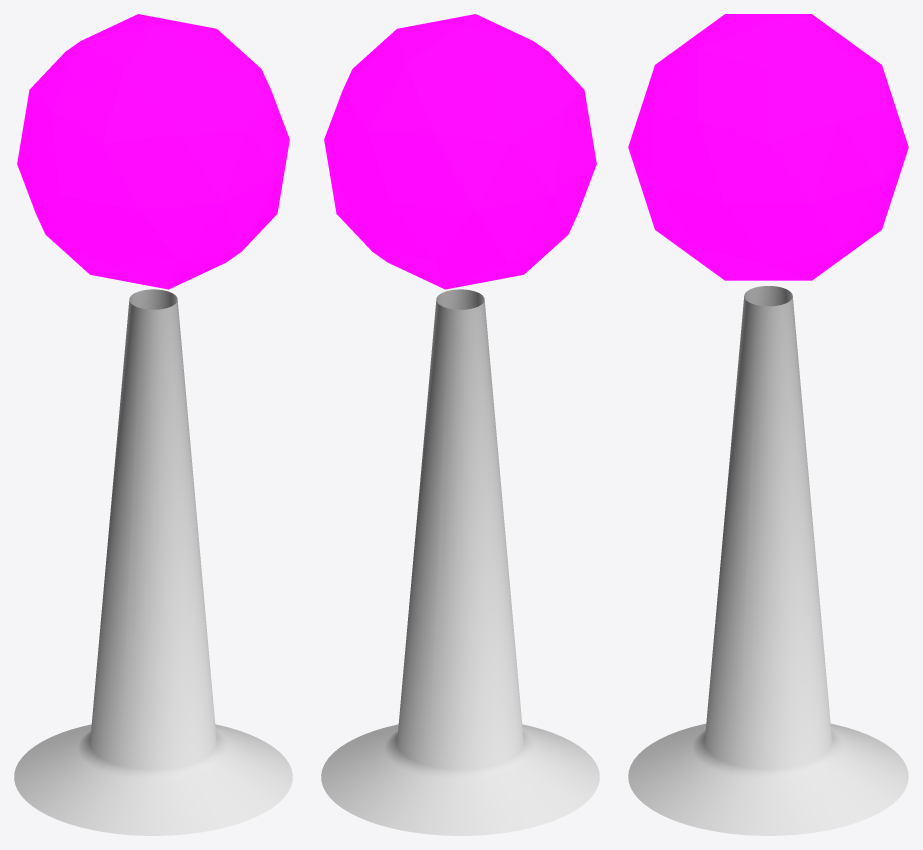
Rendered from AlienStructureDevice.dae.
3 views of the same model, side by side, from view 1: azimuth 30°, elevation 25°; view 2: azimuth 150°, elevation 25°; view 3: azimuth 270°, elevation 25° (orthographic).
Parts seen in each view (by area): view 1: Cone; view 2: Cone; view 3: Cone.
Part boxes in pixels (x1,y1,x2,y2): Cone: (14, 14, 292, 835); Cone: (321, 14, 599, 835); Cone: (628, 14, 908, 835).
Size of the model in its own units: 2 by 2 by 5.95.
